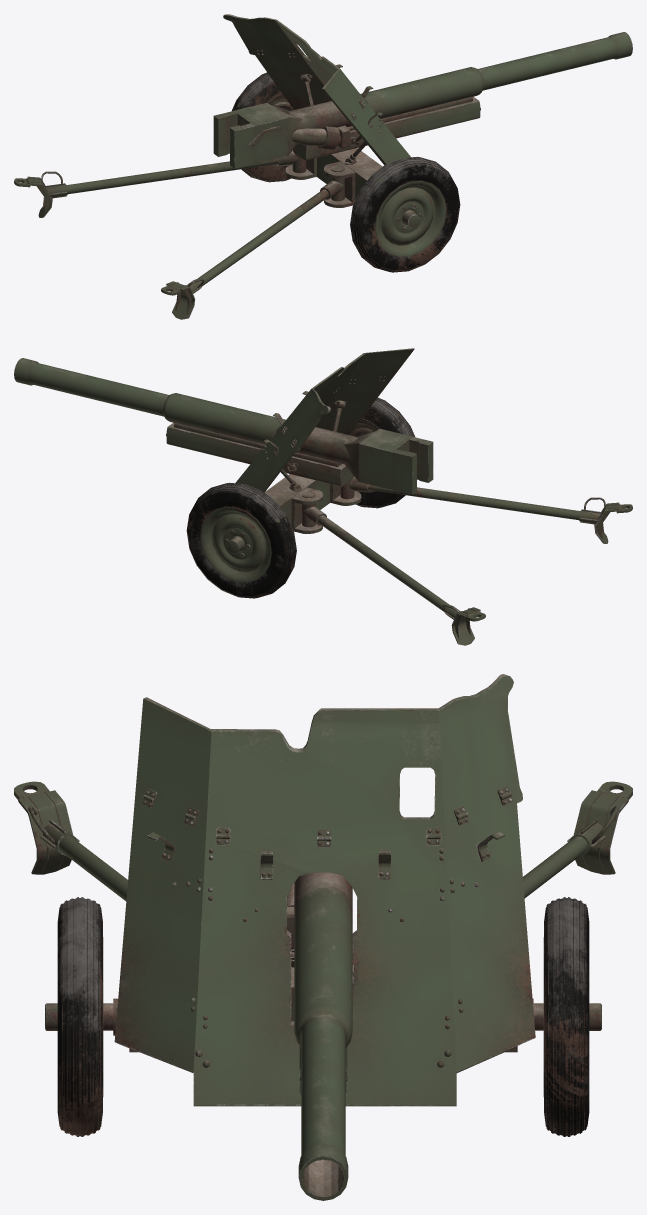
The model's file is russian_45mm_artillery_gun.glb.
The picture shows the model from 3 angles, top to bottom: view 1: azimuth 30°, elevation 25°; view 2: azimuth 150°, elevation 25°; view 3: azimuth 270°, elevation 25°; orthographic projection. The views are drawn at different scales.
Visible parts, largest first — view 1: Object_9, Object_8, Object_6, Object_5, Object_4; view 2: Object_9, Object_8, Object_5, Object_6, Object_4; view 3: Object_2, Object_8, Object_9, Object_6, Object_5, Object_4, Object_3.
Part boxes in pixels (bbox=[...]): Object_9: bbox=[213, 32, 632, 168]; Object_8: bbox=[14, 14, 410, 319]; Object_6: bbox=[232, 73, 460, 272]; Object_5: bbox=[232, 72, 446, 256]; Object_4: bbox=[256, 50, 383, 164]; Object_9: bbox=[14, 358, 433, 494]; Object_8: bbox=[235, 348, 632, 645]; Object_5: bbox=[186, 418, 378, 598]; Object_6: bbox=[186, 397, 414, 598]; Object_4: bbox=[264, 376, 385, 491]; Object_2: bbox=[193, 710, 456, 1105]; Object_8: bbox=[14, 674, 632, 1106]; Object_9: bbox=[287, 872, 352, 1200]; Object_6: bbox=[57, 897, 582, 1136]; Object_5: bbox=[45, 897, 601, 1136]; Object_4: bbox=[142, 786, 512, 1028]; Object_3: bbox=[143, 790, 504, 1067].
Size of the model in its own units: 65.5 by 22.63 by 33.11.
4 materials, 4 textured.
